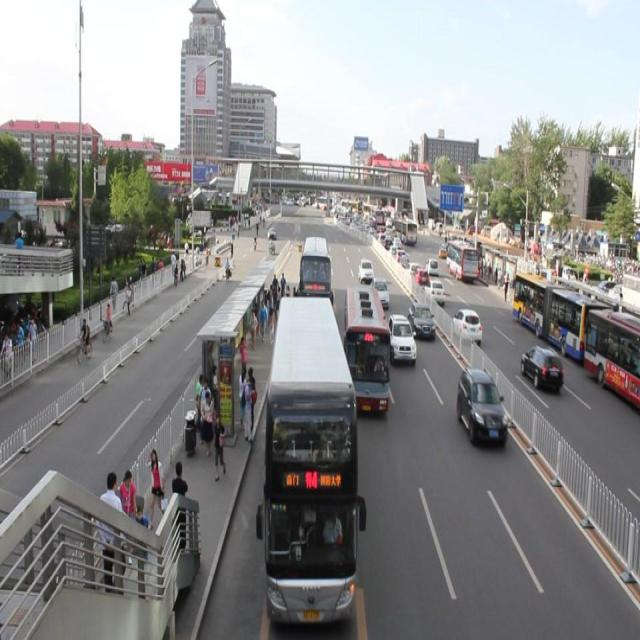car: (452, 364, 513, 456), (384, 308, 418, 365), (402, 296, 437, 342), (365, 275, 392, 310), (354, 256, 375, 282)
van: (254, 296, 369, 627), (338, 284, 394, 415), (291, 233, 338, 318)
